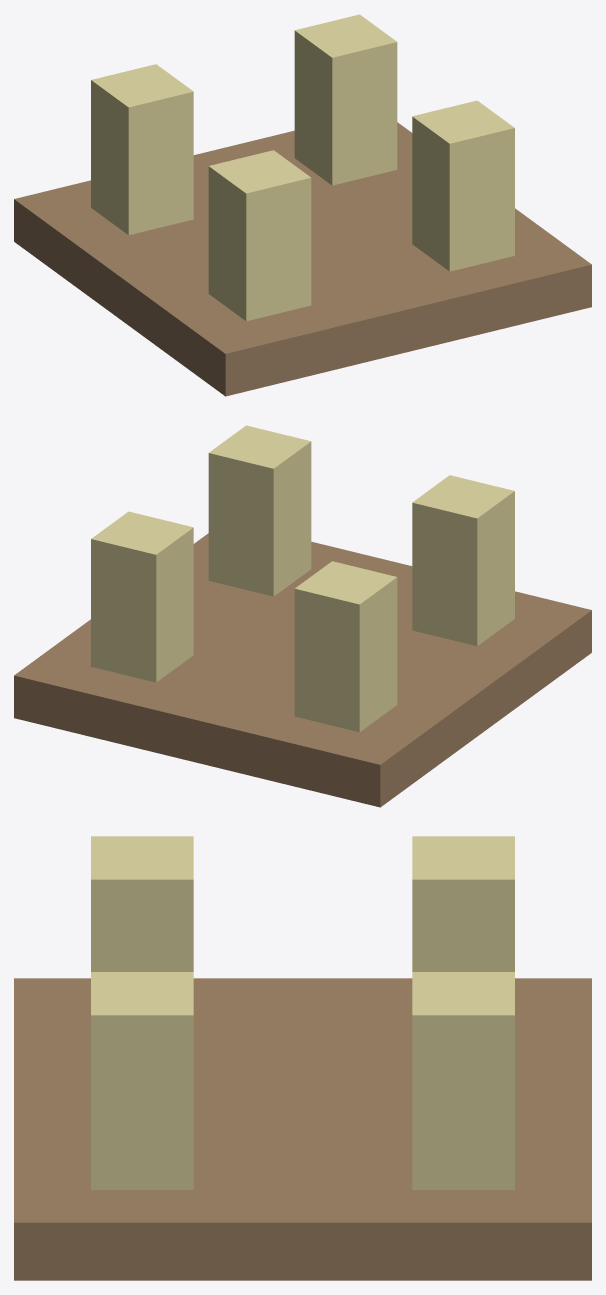
Rendered from Prop_DS_Crop_Spudlet_S2_V1.glb.
3 renders of one model, top to bottom at view 1: azimuth 30°, elevation 25°; view 2: azimuth 150°, elevation 25°; view 3: azimuth 270°, elevation 25°, orthographic. The views are drawn at different scales.
Visible parts, largest first — view 1: Prop_DS_Crop_Spudlet_S2_V1; view 2: Prop_DS_Crop_Spudlet_S2_V1; view 3: Prop_DS_Crop_Spudlet_S2_V1.
Boxes of the visible parts, <box> form: Prop_DS_Crop_Spudlet_S2_V1: <box>14,14,591,396</box>; Prop_DS_Crop_Spudlet_S2_V1: <box>14,425,591,807</box>; Prop_DS_Crop_Spudlet_S2_V1: <box>14,836,591,1280</box>.
Bounding box in the file's own units: 0.9 × 0.4 × 0.9.
